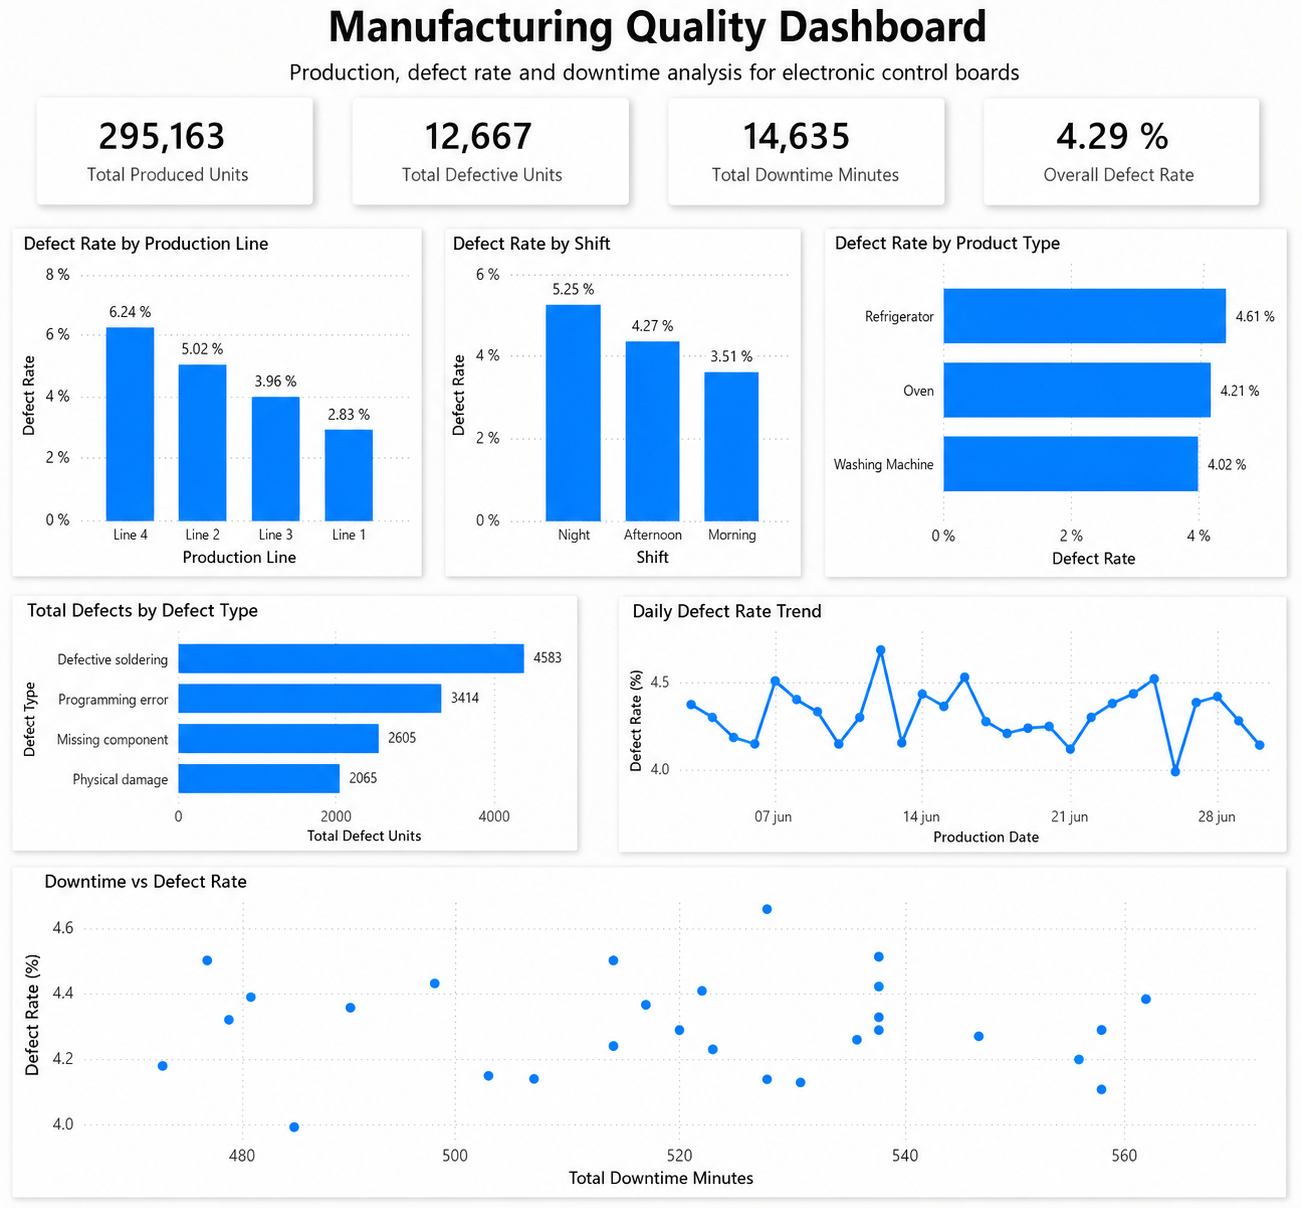

What the dashboard file says about the page in this screenshot:
{"tool":"powerbi","page":{"name":"Página 1","canvas":[1300,1200],"ordinal":0},"visuals":[{"type":"cardVisual","fields":{"Data":["production_data.Total Produced Units"]},"box":[123.9,101.5,255.2,98.5],"z":0},{"type":"cardVisual","fields":{"Data":["production_data.Total Defective Units"]},"box":[417.9,101.5,241.8,98.5],"z":1000},{"type":"cardVisual","fields":{"Data":["production_data.Total Downtime Minutes"]},"box":[698.5,101.5,246.3,98.5],"z":2000},{"type":"cardVisual","fields":{"Data":["production_data.Overall Defect Rate"]},"box":[983.6,100,256.7,98.5],"z":3000},{"type":"columnChart","title":"Defect Rate by Production Line","fields":{"Category":["production_data.line_name"],"Y":["production_data.Defect Rate"]},"box":[40.3,222.4,323.9,297],"z":4000},{"type":"clusteredColumnChart","title":"Defect Rate by Shift","fields":{"Category":["production_data.shift_name"],"Y":["production_data.Defect Rate"]},"box":[432.8,222.4,295.5,297],"z":5000},{"type":"clusteredBarChart","title":"Defect Rate by Product Type","fields":{"Y":["production_data.Defect Rate"],"Category":["production_data.appliance_type"]},"box":[797,222.4,477.6,297],"z":6000},{"type":"clusteredBarChart","title":"Total Defects by Defect Type","fields":{"Category":["defect_summary.defect_name"],"Y":["Sum(defect_summary.total_defect_units)"]},"box":[25.4,541.8,513.4,220.9],"z":7000},{"type":"lineChart","title":"Daily Defect Rate Trend","fields":{"Y":["Sum(daily_summary_clean.defect_rate_percent)"],"Category":["daily_summary_clean.production_date"]},"box":[644.8,541.8,628.4,220.9],"z":8000},{"type":"scatterChart","title":"Downtime vs Defect Rate","fields":{"X":["Sum(daily_summary_clean.total_downtime_minutes)"],"Y":["Sum(daily_summary_clean.defect_rate_percent)"],"Category":["daily_summary_clean.production_date"]},"box":[129,773,1042,427],"z":9000},{"type":"textbox","box":[300.5,0,699,60],"z":10000},{"type":"textbox","box":[309,58.2,682.1,37.3],"z":11000}]}

Visuals, with their boxes in screenshot pixels (x1, y1, x2, y2), scaled from the page's 1300x1200 canvas onto the 1302x1208 screenshot:
cardVisual - production_data.Total Produced Units: [124, 102, 380, 201]
cardVisual - production_data.Total Defective Units: [419, 102, 661, 201]
cardVisual - production_data.Total Downtime Minutes: [700, 102, 946, 201]
cardVisual - production_data.Overall Defect Rate: [985, 101, 1242, 200]
"Defect Rate by Production Line" columnChart: [40, 224, 365, 523]
"Defect Rate by Shift" clusteredColumnChart: [433, 224, 729, 523]
"Defect Rate by Product Type" clusteredBarChart: [798, 224, 1277, 523]
"Total Defects by Defect Type" clusteredBarChart: [25, 545, 540, 768]
"Daily Defect Rate Trend" lineChart: [646, 545, 1275, 768]
"Downtime vs Defect Rate" scatterChart: [129, 778, 1173, 1207]
textbox: [301, 0, 1001, 60]
textbox: [309, 59, 993, 96]
